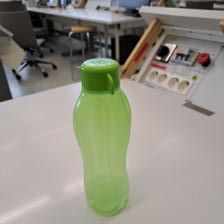bottle: (70, 57, 135, 222)
